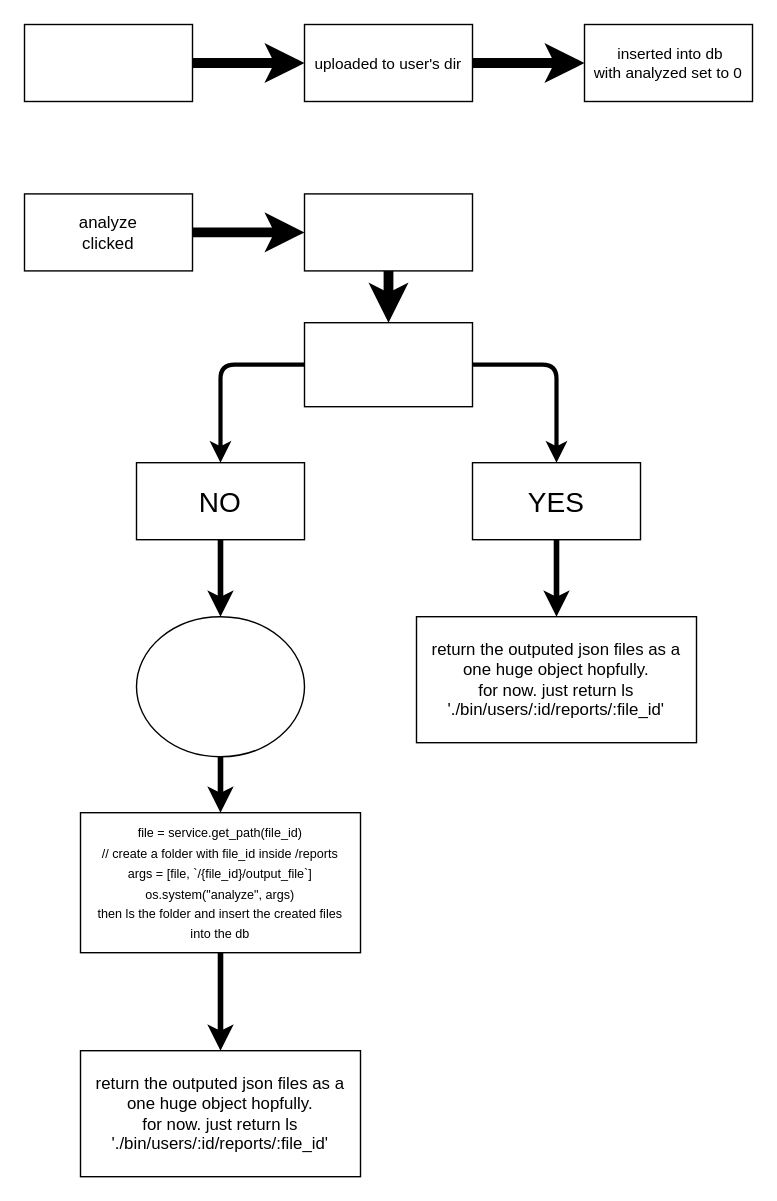
This 777x1201 diagram has some shape labels left out. Each missing label, with the centre of its shape:
"analyze request with owner_file_id aka file_id in the pcap table" belongs at point 387,231.
"file uploaded" belongs at point 107,62.
"is file analyzed? check in pcap file table" belongs at point 387,364.
"MySQL query update pcap_table set analyzed = 1 where file_id = ?" belongs at point 219,686.
